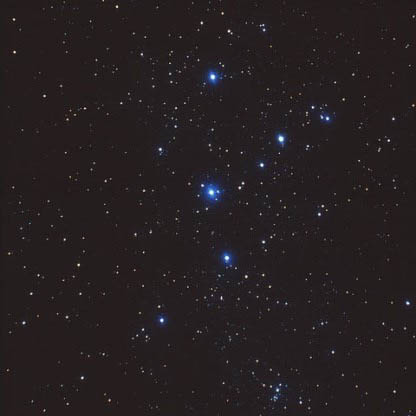Cassiopeia: (252, 131, 291, 172), (197, 177, 227, 210), (214, 243, 240, 268), (202, 64, 225, 89), (151, 307, 173, 327)
